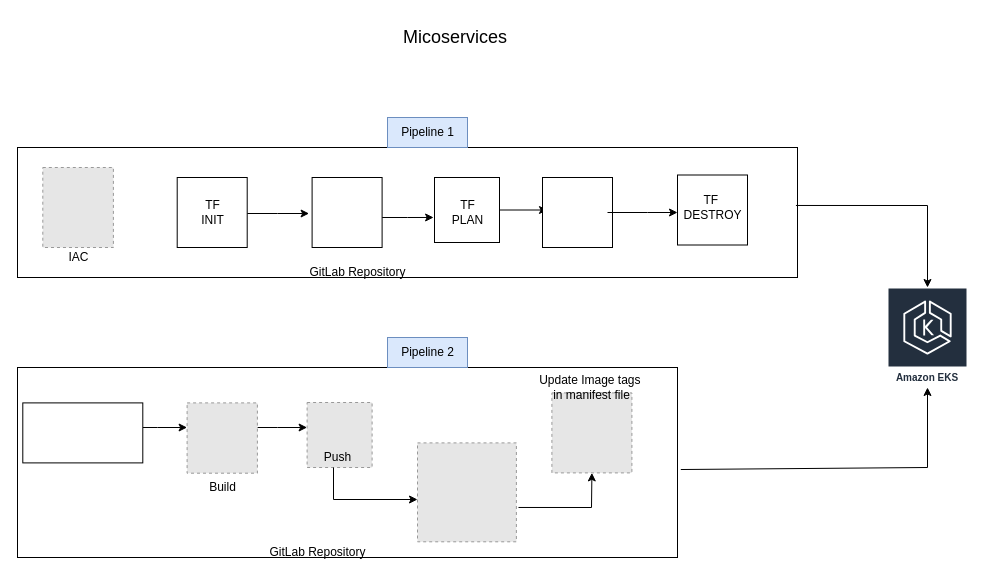
Some shapes in this 985 by 584 pixel diagram are drawn without their labels. Grey dashed boxes stand in for pictures. Each missing label, with the centre of its shape:
"Microservices Demo (Application)" belongs at point 82,432.
"TF APPLY" belongs at point 577,212.
"TF VALIDATE" belongs at point 346,212.
